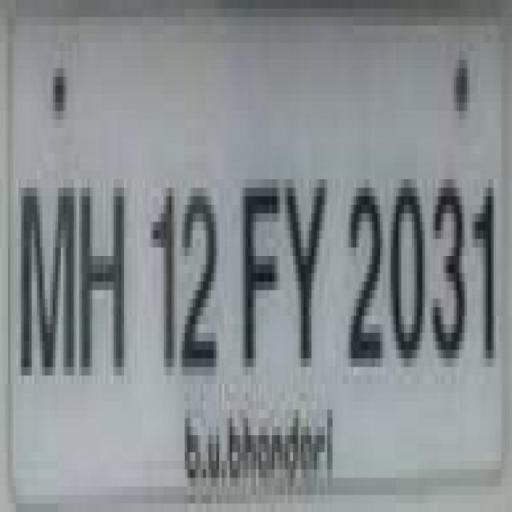number plate: (8, 0, 512, 486)
